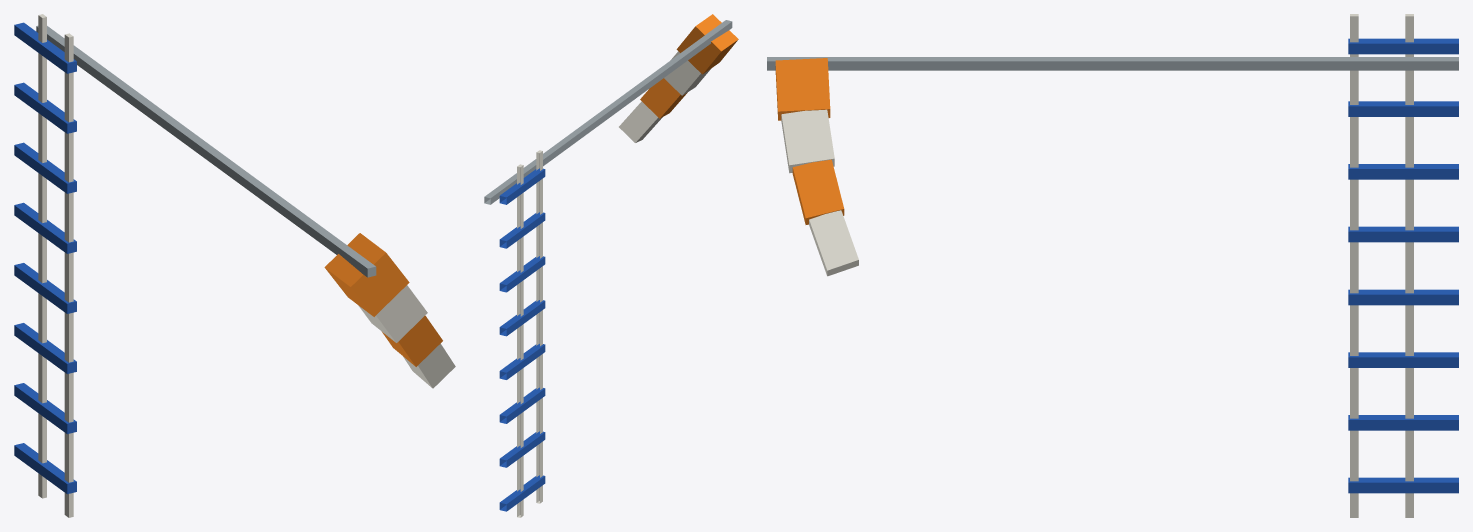
File: frame_1.glb
The picture shows the model from 3 angles, left to right: view 1: azimuth 30°, elevation 25°; view 2: azimuth 150°, elevation 25°; view 3: azimuth 270°, elevation 25°; orthographic projection. The views are drawn at different scales.
Visible parts, largest first — view 1: t0_1_g39.001; view 2: t0_1_g39.001; view 3: t0_1_g39.001.
Boxes of the visible parts, <box> form: t0_1_g39.001: <box>14,14,455,517</box>; t0_1_g39.001: <box>484,14,738,517</box>; t0_1_g39.001: <box>767,14,1458,517</box>.
Size of the model in its own units: 4.85 by 16 by 20.
